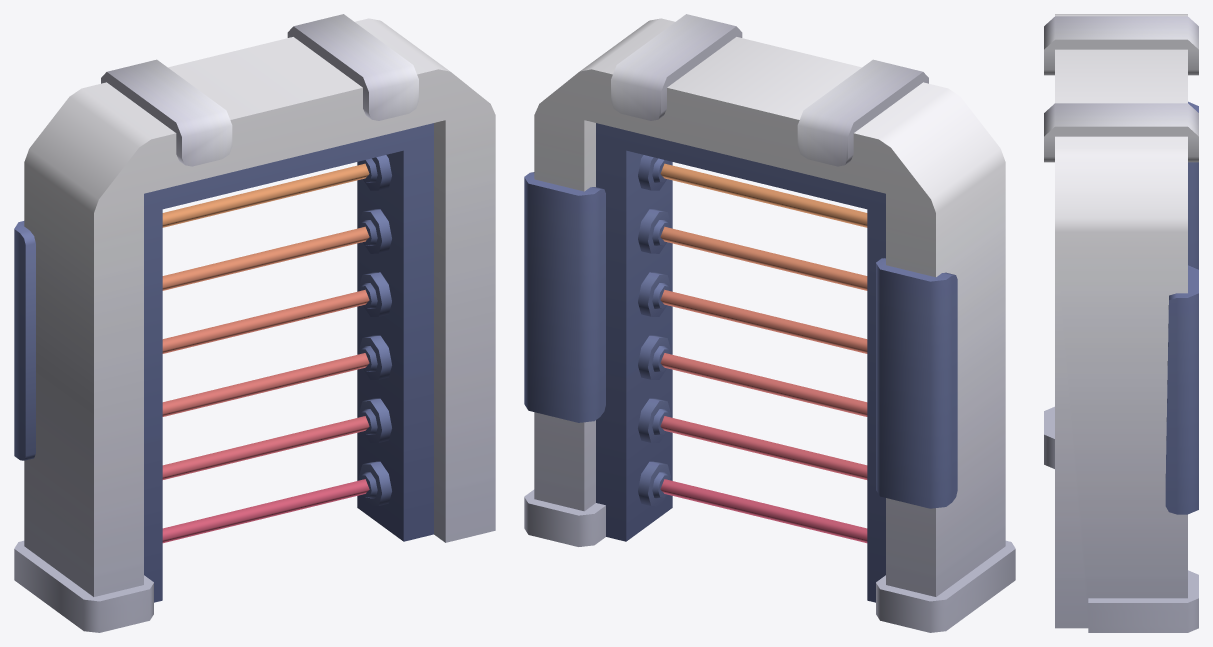
The model's file is os_laser_gate.glb.
3 renders of one model, left to right at view 1: azimuth 30°, elevation 25°; view 2: azimuth 150°, elevation 25°; view 3: azimuth 270°, elevation 25°, orthographic. The views are drawn at different scales.
Parts seen in each view (by area): view 1: gate-lasers, lasers, Group (×6); view 2: gate-lasers, lasers, Group (×6); view 3: gate-lasers.
Boxes of the visible parts, x1,y1,x2,y2 form: gate-lasers: (14, 14, 495, 632); lasers: (162, 163, 369, 543); Group (×6): (359, 155, 391, 506); gate-lasers: (524, 14, 1015, 632); lasers: (660, 163, 867, 543); Group (×6): (638, 155, 670, 506); gate-lasers: (1044, 14, 1198, 632).
Size of the model in its own units: 3.61 by 3.97 by 1.2.
Materials: 1 (1 with a texture image).
